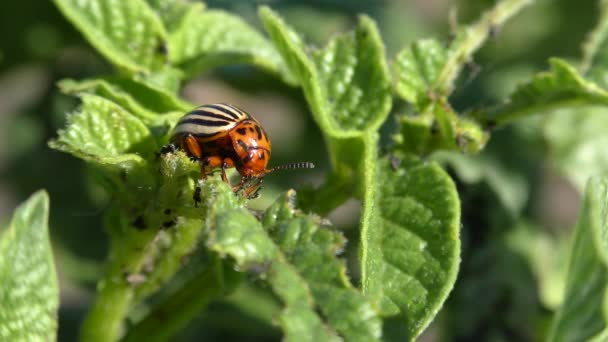hrosc: (160, 91, 283, 198)
